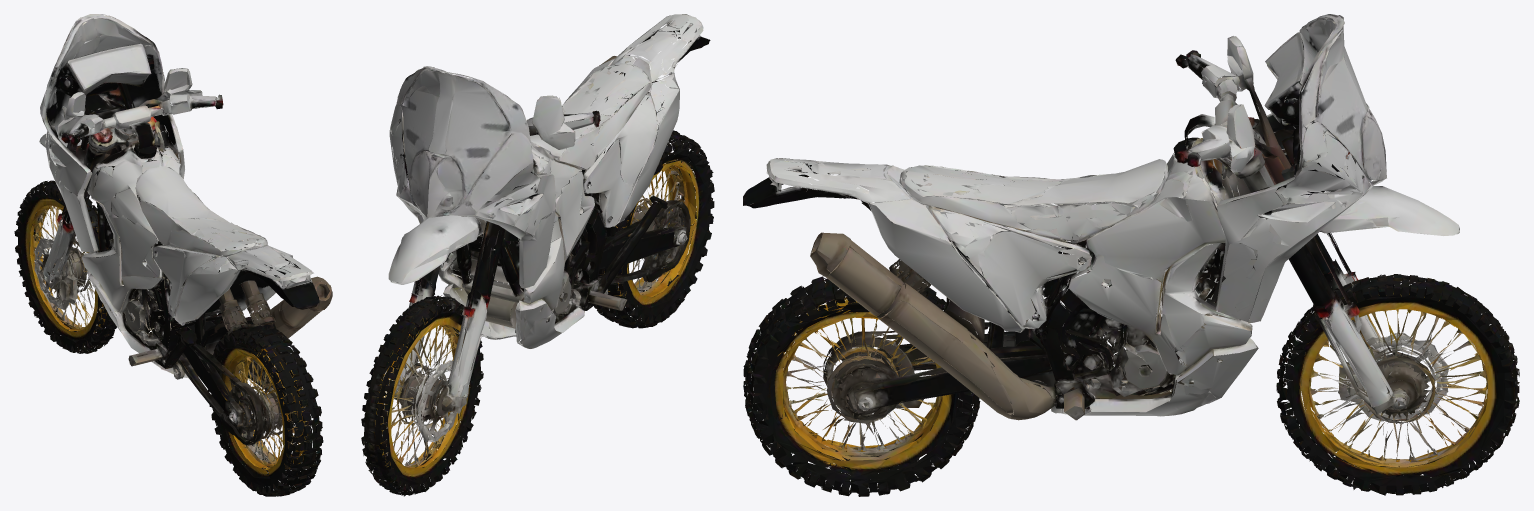
The model's file is bike_dakar.glb.
3 renders of one model, left to right at view 1: azimuth 30°, elevation 25°; view 2: azimuth 150°, elevation 25°; view 3: azimuth 270°, elevation 25°, orthographic. The views are drawn at different scales.
Parts seen in each view (by area): view 1: bike_body, wheel_r, wheel_f; view 2: bike_body, wheel_f, wheel_r; view 3: bike_body, wheel_f, wheel_r.
Boxes of the visible parts, x1,y1,x2,y2 form: bike_body: [34, 14, 332, 465]; wheel_r: [199, 323, 323, 496]; wheel_f: [14, 180, 116, 353]; bike_body: [388, 14, 710, 459]; wheel_f: [361, 286, 486, 496]; wheel_r: [583, 134, 714, 328]; bike_body: [743, 14, 1481, 456]; wheel_f: [1276, 267, 1519, 495]; wheel_r: [743, 271, 980, 496].
Size of the model in its own units: 0.789 by 1.63 by 2.44.
1 material, 1 textured.
